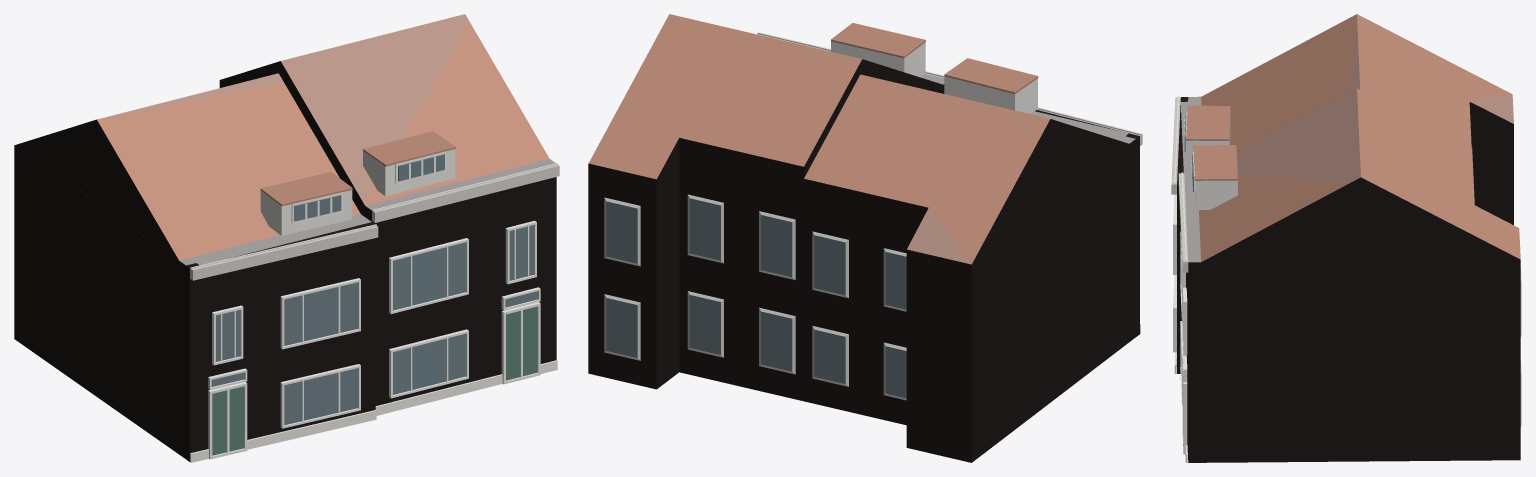
File: chunk-face-meeuwenplein-29-39-r1.lod2.glb
3 views of the same model, side by side, from view 1: azimuth 30°, elevation 25°; view 2: azimuth 150°, elevation 25°; view 3: azimuth 270°, elevation 25° (orthographic). The views are drawn at different scales.
Visible parts, largest first — view 1: lod2; view 2: lod2; view 3: lod2.
Part boxes in pixels (left/top/right/bottom): lod2: left=14, top=14, right=559, bottom=462; lod2: left=588, top=14, right=1142, bottom=462; lod2: left=1171, top=14, right=1521, bottom=462.
Bounding box in the file's own units: 13.14 × 9.71 × 10.84.
